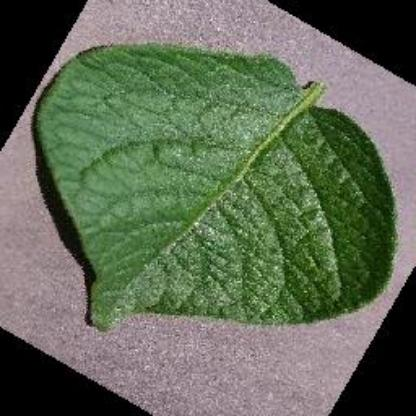Healthy-plant: (21, 8, 406, 416)
